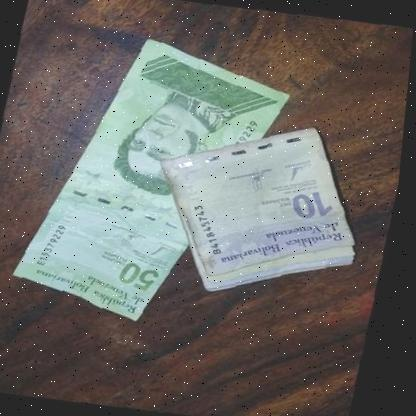fifty-front-vef: (8, 27, 301, 336)
